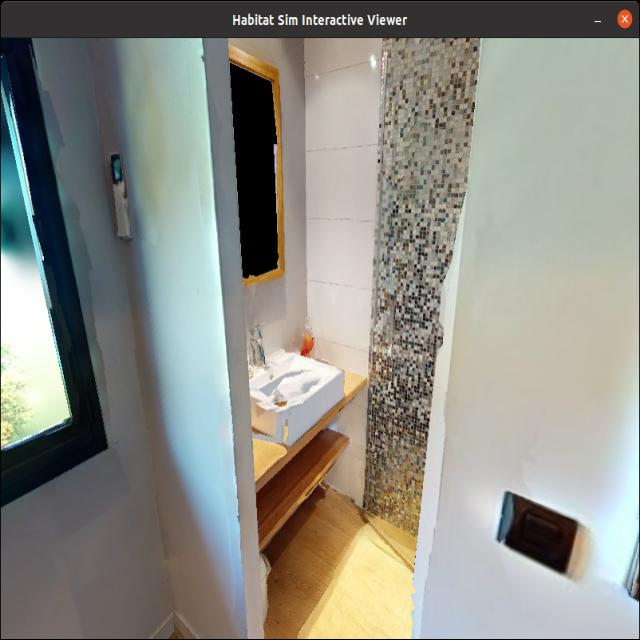door-frame: (195, 39, 484, 636)
sink: (243, 329, 345, 462)
